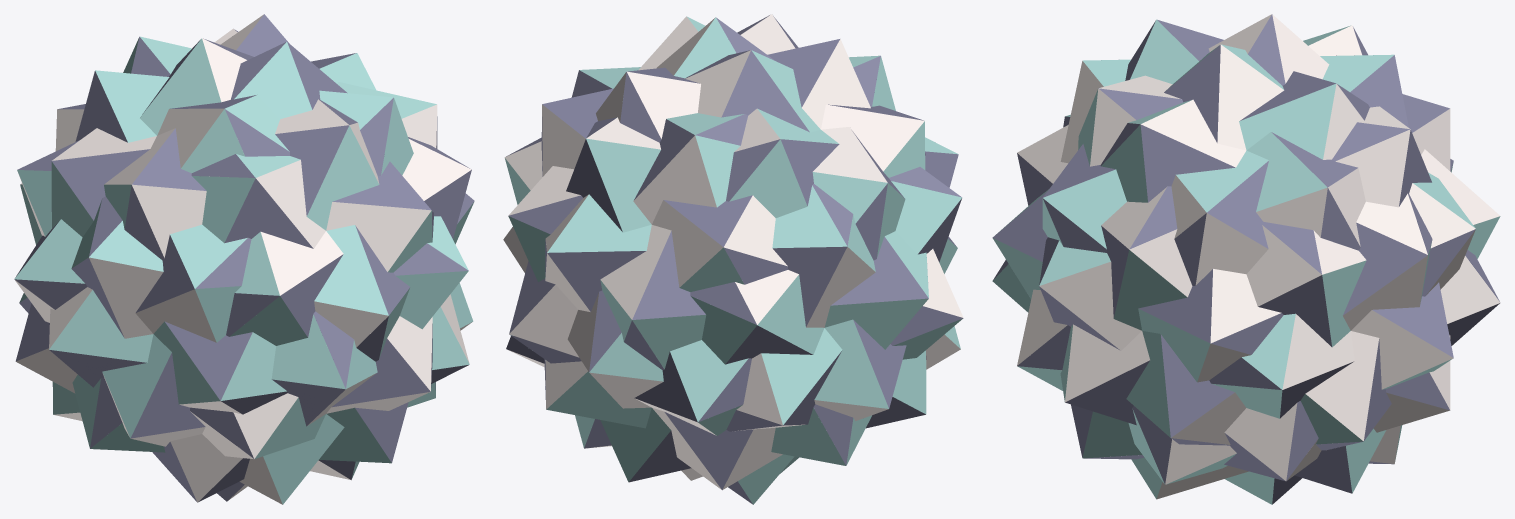
The picture shows the model from 3 angles, left to right: view 1: azimuth 30°, elevation 25°; view 2: azimuth 150°, elevation 25°; view 3: azimuth 270°, elevation 25°; orthographic projection. The views are drawn at different scales.
Parts seen in each view (by area): view 1: Polyhedron_From_OBJ.001; view 2: Polyhedron_From_OBJ.001; view 3: Polyhedron_From_OBJ.001.
Boxes of the visible parts, box(x1,y1,x2,y2) form: Polyhedron_From_OBJ.001: box(14, 14, 474, 504); Polyhedron_From_OBJ.001: box(503, 14, 963, 504); Polyhedron_From_OBJ.001: box(992, 14, 1500, 504).
Size of the model in its own units: 40 by 40 by 40.
